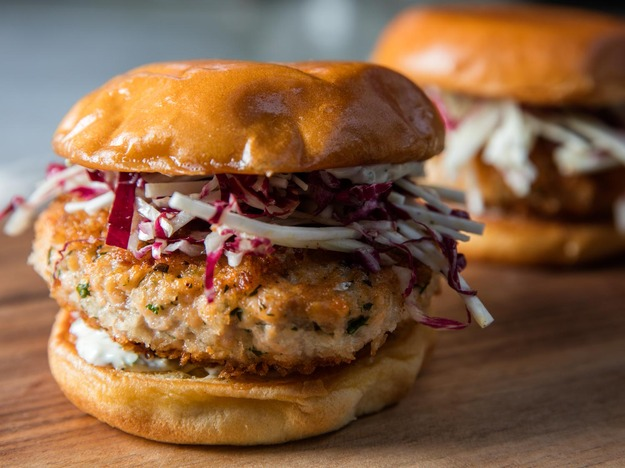hamburger: (15, 49, 483, 450), (388, 15, 625, 272)
